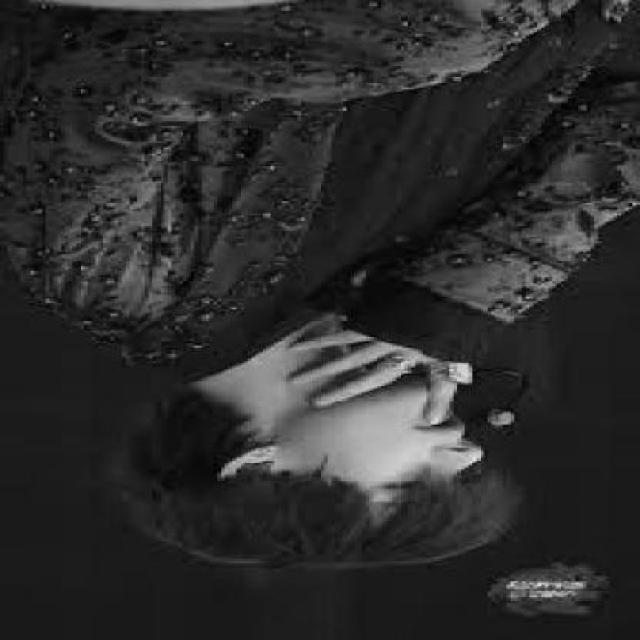earphone: (234, 459, 280, 484)
